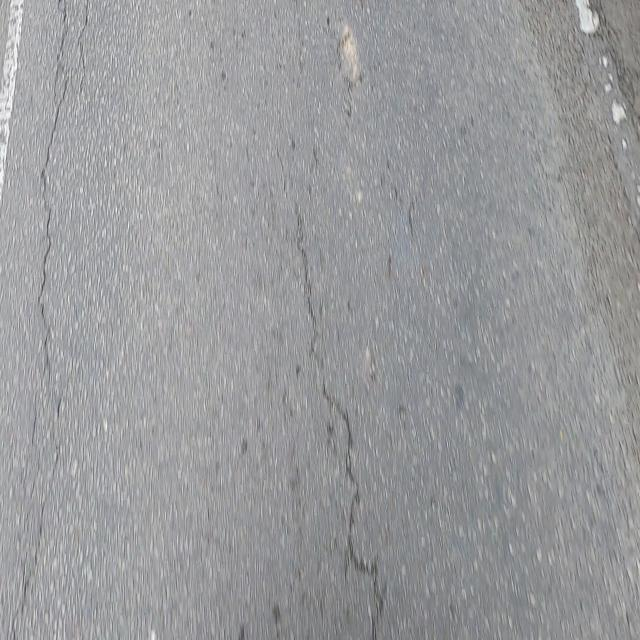Retak-Memanjang: (294, 215, 384, 634), (38, 5, 69, 420)
